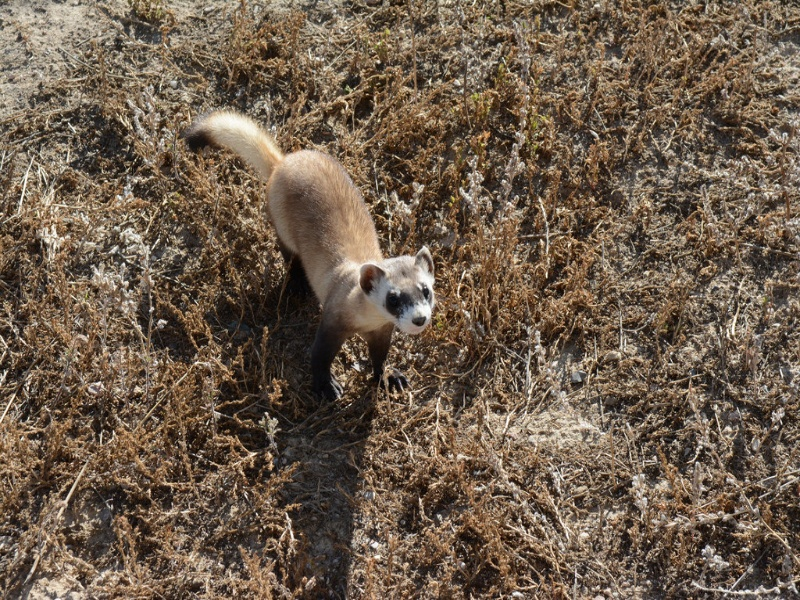minkish: (186, 110, 446, 405)
